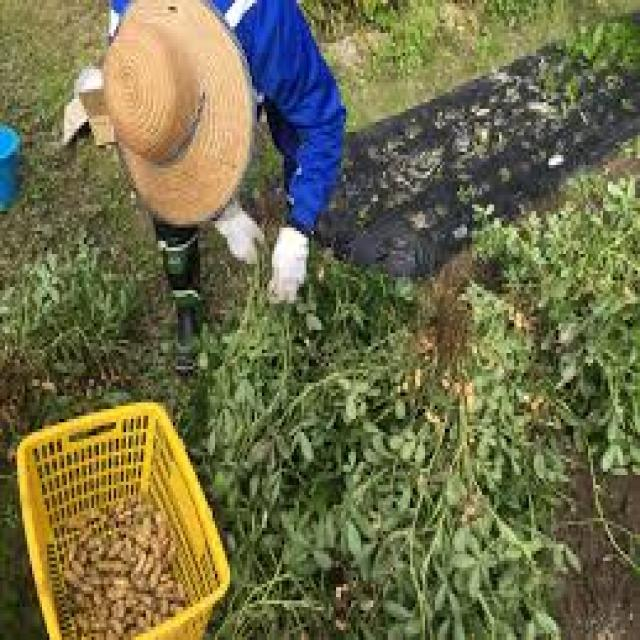basket: (0, 385, 250, 640)
